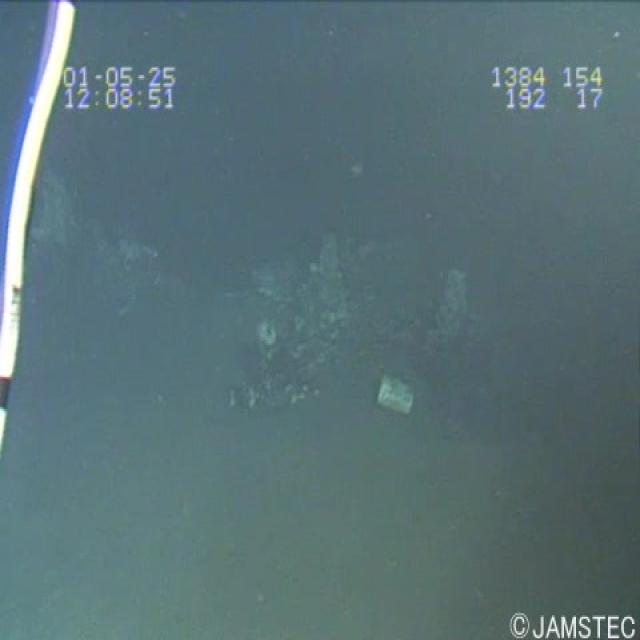plastic: (371, 366, 421, 423)
